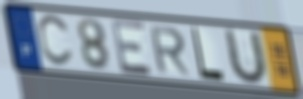8: (75, 17, 111, 72)
C: (36, 14, 75, 69)
E: (109, 17, 155, 78)
L: (190, 25, 227, 84)
R: (147, 25, 192, 77)
U: (224, 26, 268, 87)
